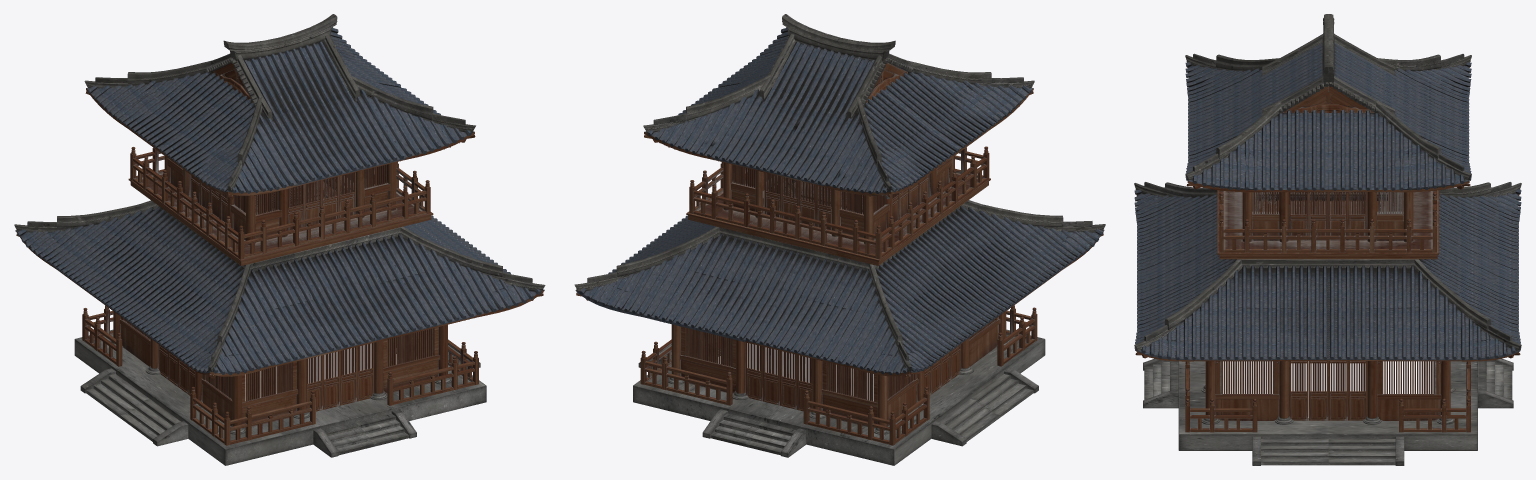
The model's file is temple.gltf.
The picture shows the model from 3 angles, left to right: view 1: azimuth 30°, elevation 25°; view 2: azimuth 150°, elevation 25°; view 3: azimuth 270°, elevation 25°; orthographic projection.
Parts seen in each view (by area): view 1: Chinese Temple; view 2: Chinese Temple; view 3: Chinese Temple.
Part boxes in pixels (<box>): Chinese Temple: <box>14,14,545,465</box>; Chinese Temple: <box>574,14,1105,465</box>; Chinese Temple: <box>1134,14,1521,465</box>.
Size of the model in its own units: 78.87 by 78.15 by 79.06.
Materials: 10 (10 with a texture image).
